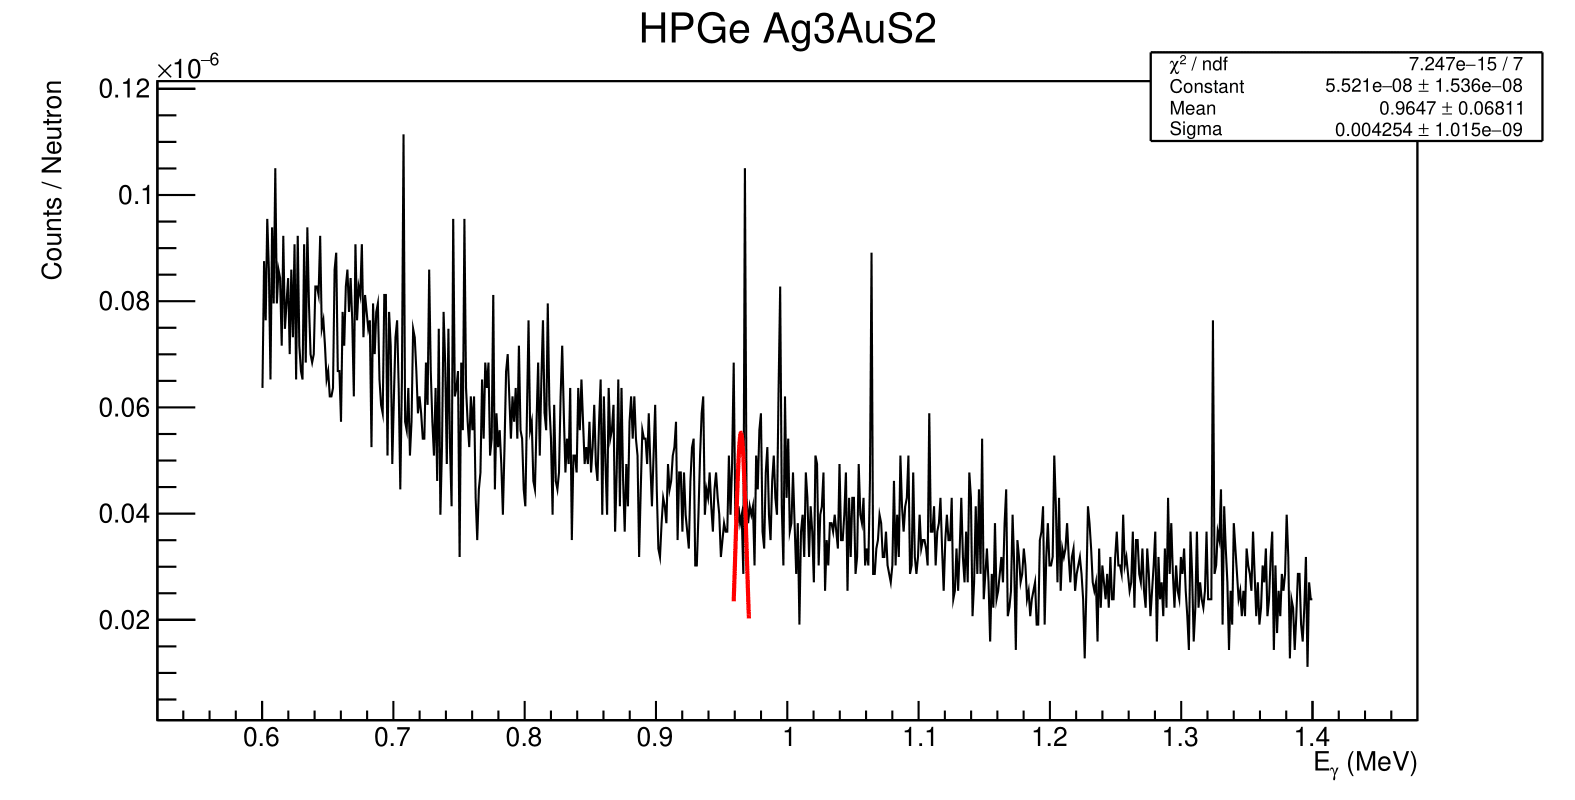other: (777, 388, 1344, 650), (236, 198, 678, 531)
